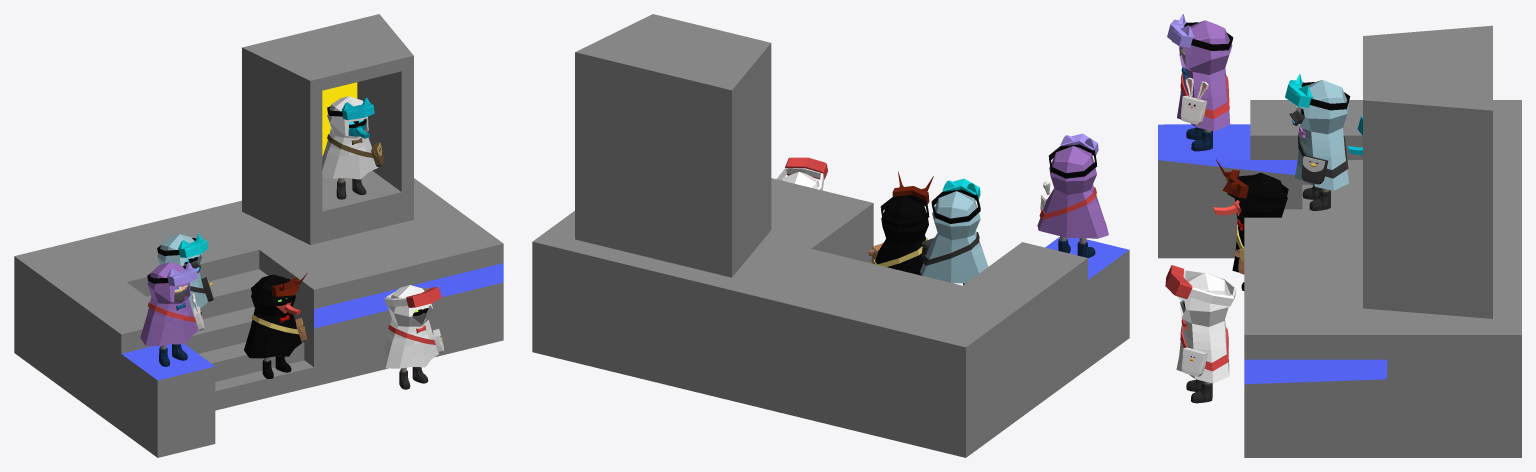
File: Human_left.glb
3 renders of one model, left to right at view 1: azimuth 30°, elevation 25°; view 2: azimuth 150°, elevation 25°; view 3: azimuth 270°, elevation 25°, orthographic. The views are drawn at different scales.
Parts seen in each view (by area): view 1: bg.002, Body, Body.005, Body.012, Body.008, Body.016, VR01.001, VR03.003, VR03, VR03.001, VR02.001; view 2: bg.002, Body.005, Body.016, Body, VR02.001, VR03.003, VR03, VR01.001; view 3: bg.002, Body.016, Body.012, Body.005, Body, VR01.001, VR03, VR03.003, VR02.001, 02RabbitBag.001, 03PenguinBag.001, 01DuckBag.001 (+2 smaller).
Part boxes in pixels (x1,y1,x2,y2): bg.002: [14, 14, 503, 457]; Body: [244, 274, 301, 358]; Body.005: [140, 262, 198, 345]; Body.012: [380, 285, 438, 368]; Body.008: [322, 96, 378, 179]; Body.016: [157, 234, 207, 314]; VR01.001: [384, 287, 441, 307]; VR03.003: [157, 233, 208, 257]; VR03: [147, 262, 197, 285]; VR03.001: [327, 97, 374, 120]; VR02.001: [251, 273, 307, 296]; bg.002: [532, 14, 1129, 457]; Body.005: [1037, 146, 1108, 238]; Body.016: [920, 191, 988, 283]; Body: [875, 196, 928, 275]; VR02.001: [880, 171, 933, 228]; VR03.003: [931, 178, 980, 223]; VR03: [1048, 133, 1098, 178]; VR01.001: [776, 157, 827, 190]; bg.002: [1158, 25, 1521, 457]; Body.016: [1289, 80, 1349, 190]; Body.012: [1171, 272, 1231, 383]; Body.005: [1171, 20, 1232, 131]; Body: [1227, 172, 1287, 272]; VR01.001: [1165, 265, 1236, 306]; VR03: [1167, 14, 1233, 50]; VR03.003: [1285, 74, 1350, 110]; VR02.001: [1216, 159, 1288, 203]; 02RabbitBag.001: [1180, 77, 1208, 124]; 03PenguinBag.001: [1301, 155, 1328, 184]; 01DuckBag.001: [1181, 347, 1207, 376].
Size of the model in its own units: 16.8 by 11.17 by 10.98.
